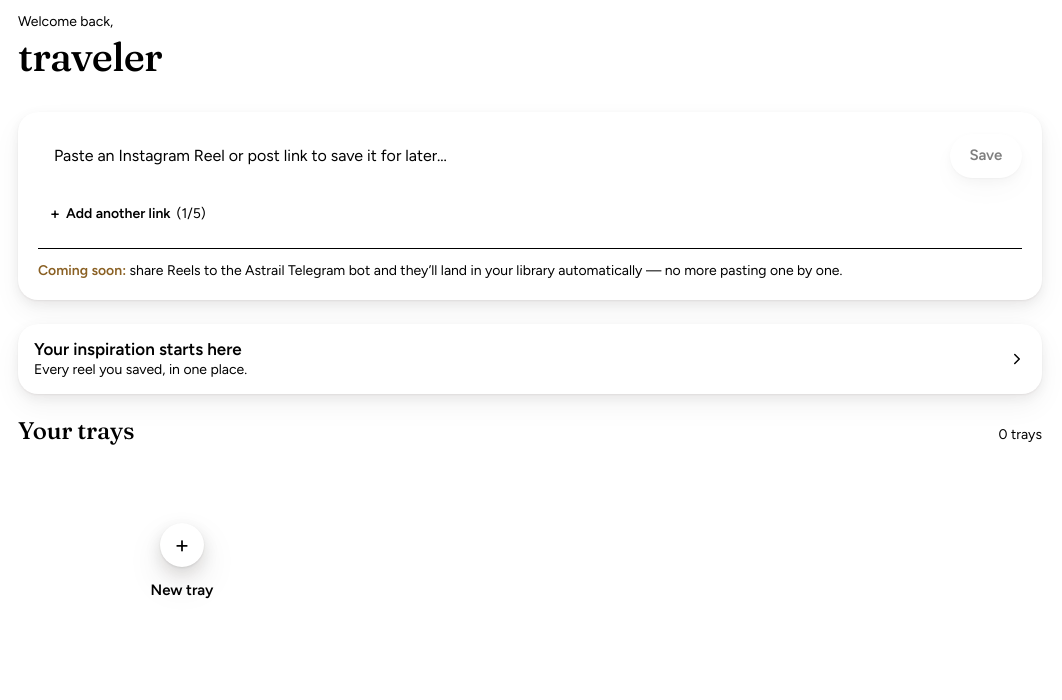
Scenario: TraysScreen › keeps the failed link in its row and reports a partial save
Click the button "+ Add another link (1/5)": (128, 214) [38,192,218,236]
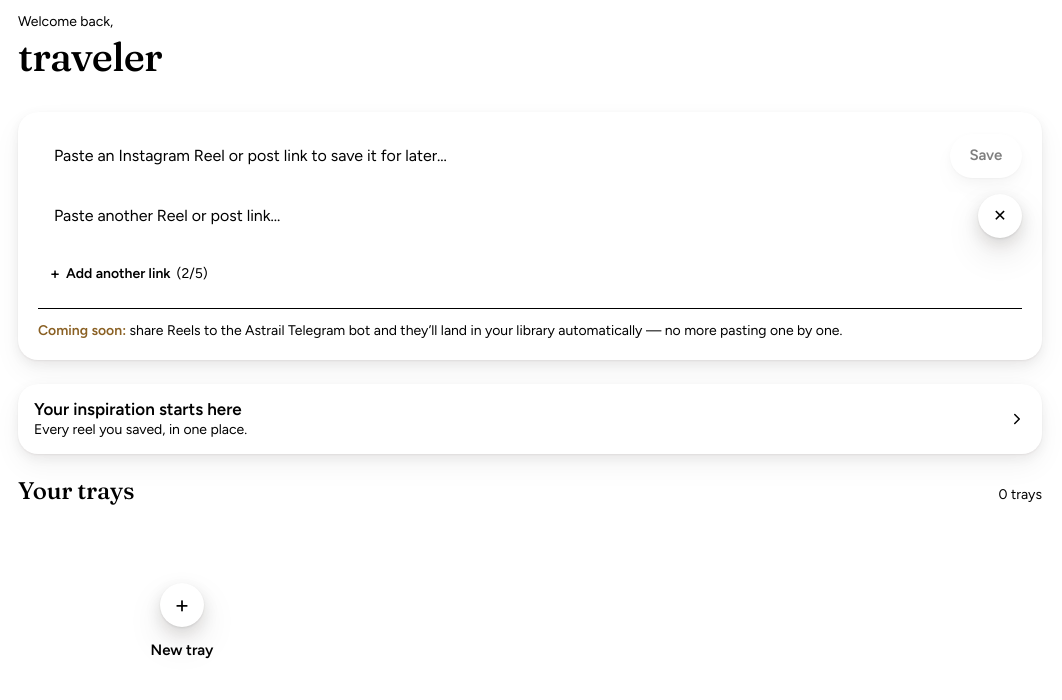
In the field named "Paste a Reel or post link": (490, 156) [38,132,942,180], type "https://www.instagram.com/reel/GOOD/"
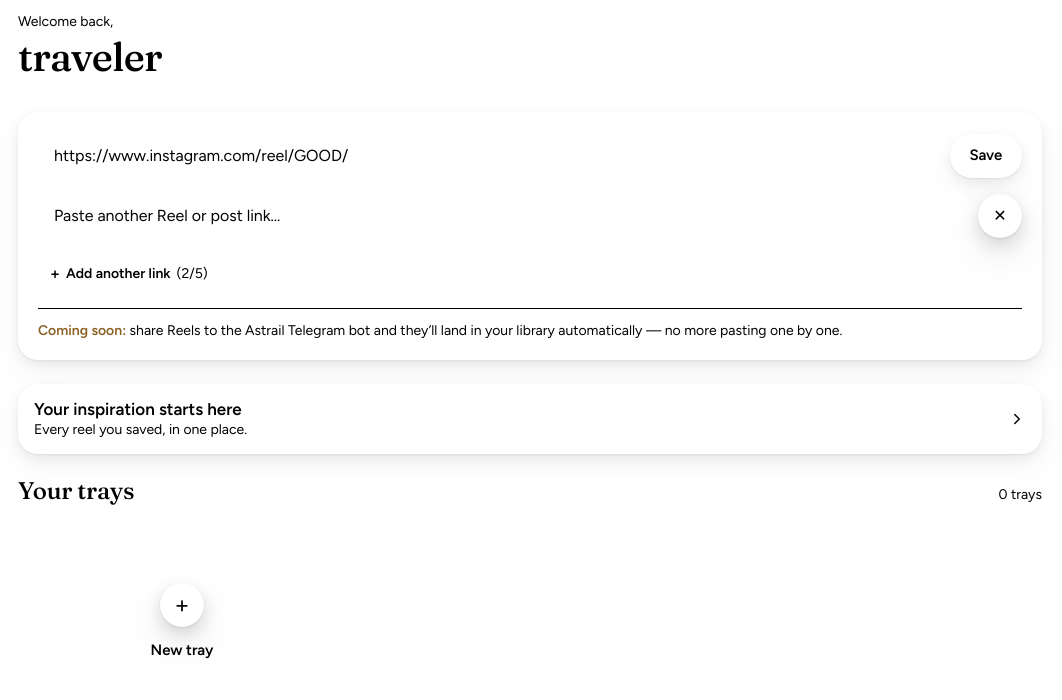
In the field named "Paste a Reel or post link 2": (504, 216) [38,192,970,240], type "https://www.instagram.com/bad"
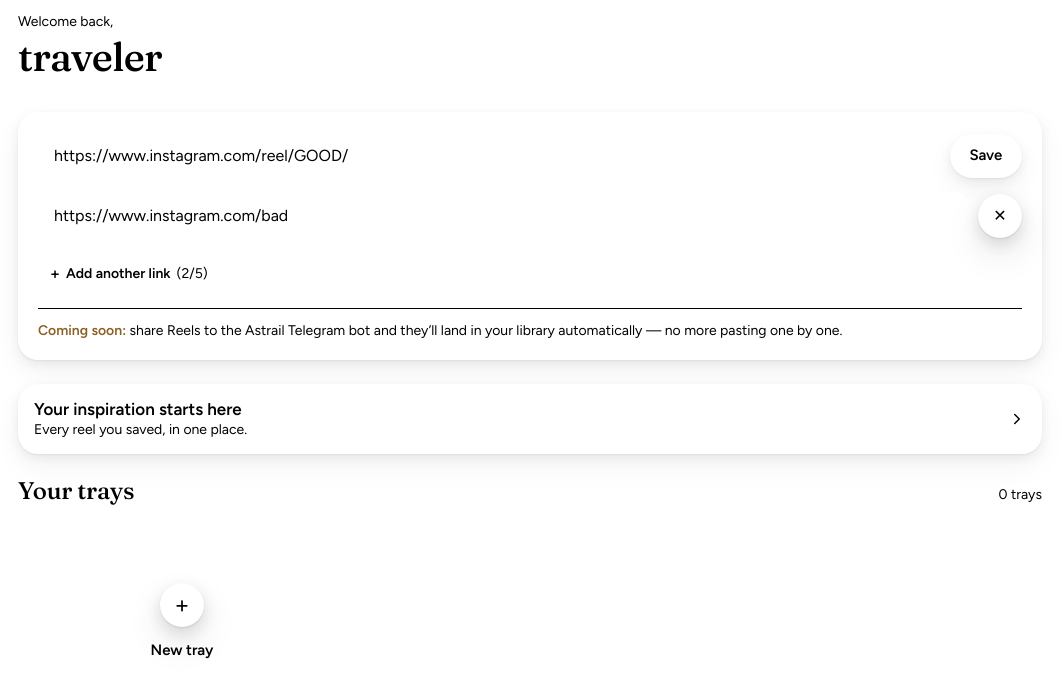
Click the button "Save": (986, 156) [950,134,1022,178]
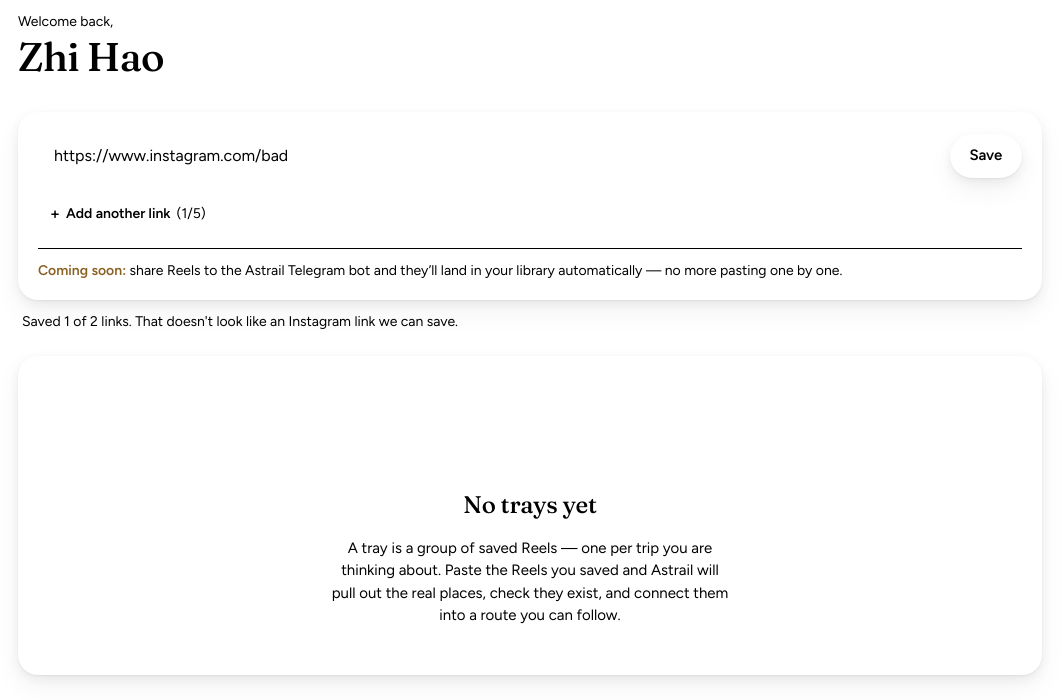
Result: the message shows "Saved 1 of 2 links." at [22,313,458,330]
Result: the message shows "That doesn't look like an Instagram link we can save." at [22,313,458,330]
Result: the field named "Paste a Reel or post link" holds "https://www.instagram.com/bad" at [38,132,942,180]
